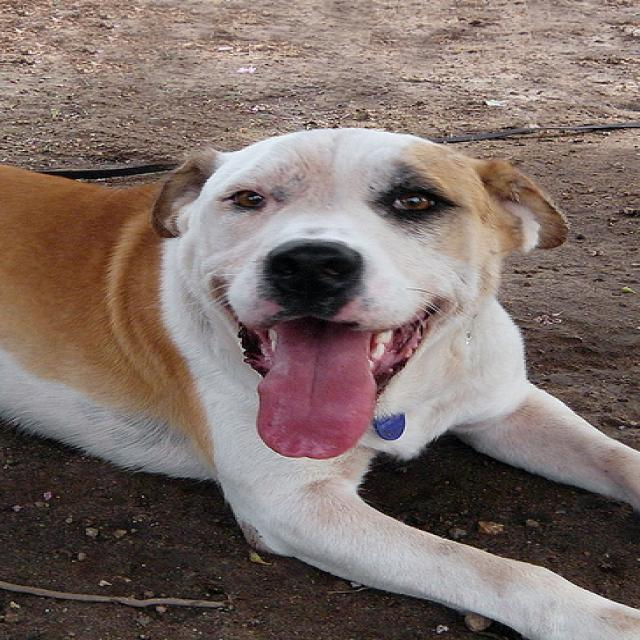dog-american_bulldog: (2, 118, 636, 637)
